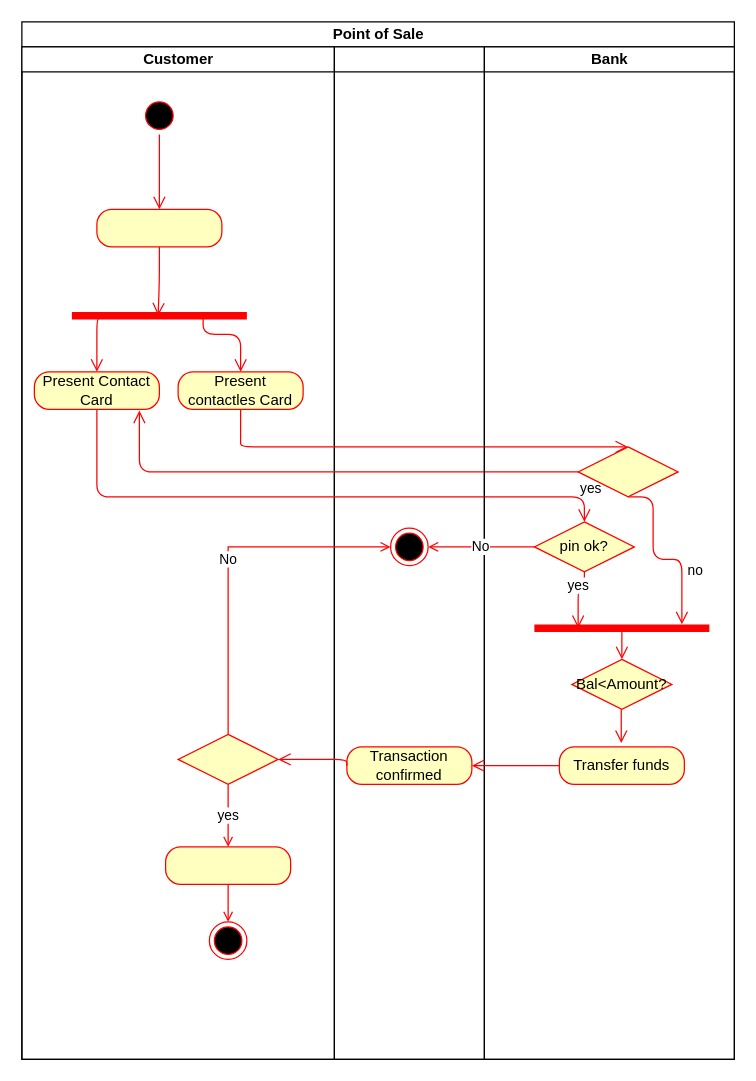
Some shapes in this 756 by 1081 pixel diagram are drawn without their labels. Here are the shapes that lost their labels. From the top down, the box of each, then its label:
(96, 208, 222, 247): Purchase items
(577, 446, 678, 497): Amount>30
(333, 46, 484, 1059): Vendor
(177, 733, 278, 784): Receipt wanted?
(164, 846, 291, 884): Collect recept
